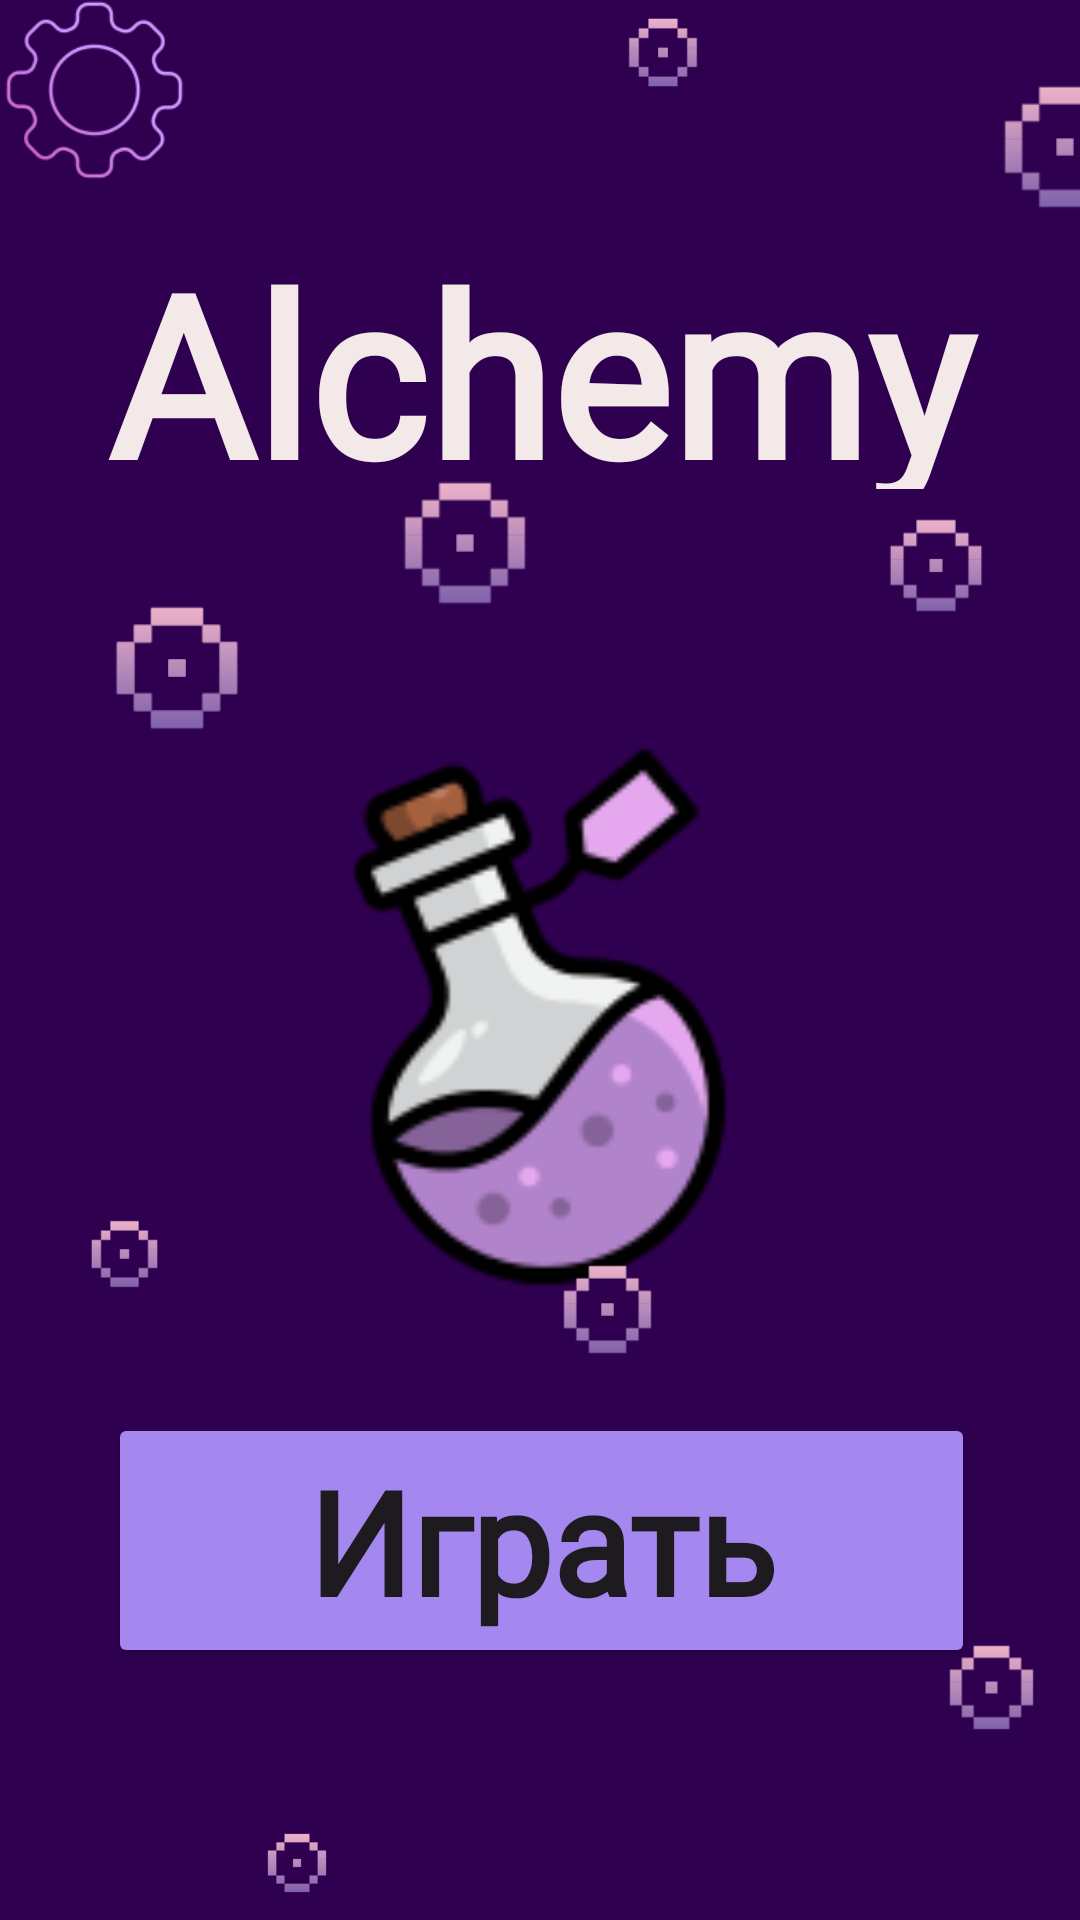

Screen size 1080×1920. Icon name, then its center in pixels as (x,y):
setting: (94,89)
